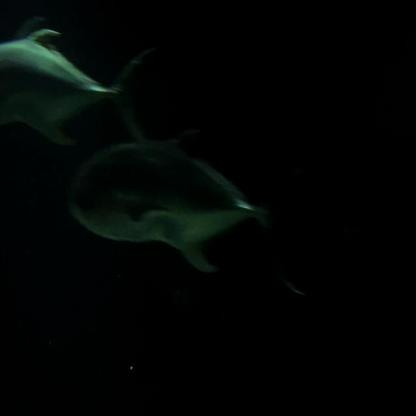fish: (66, 124, 309, 302), (0, 27, 159, 161)
